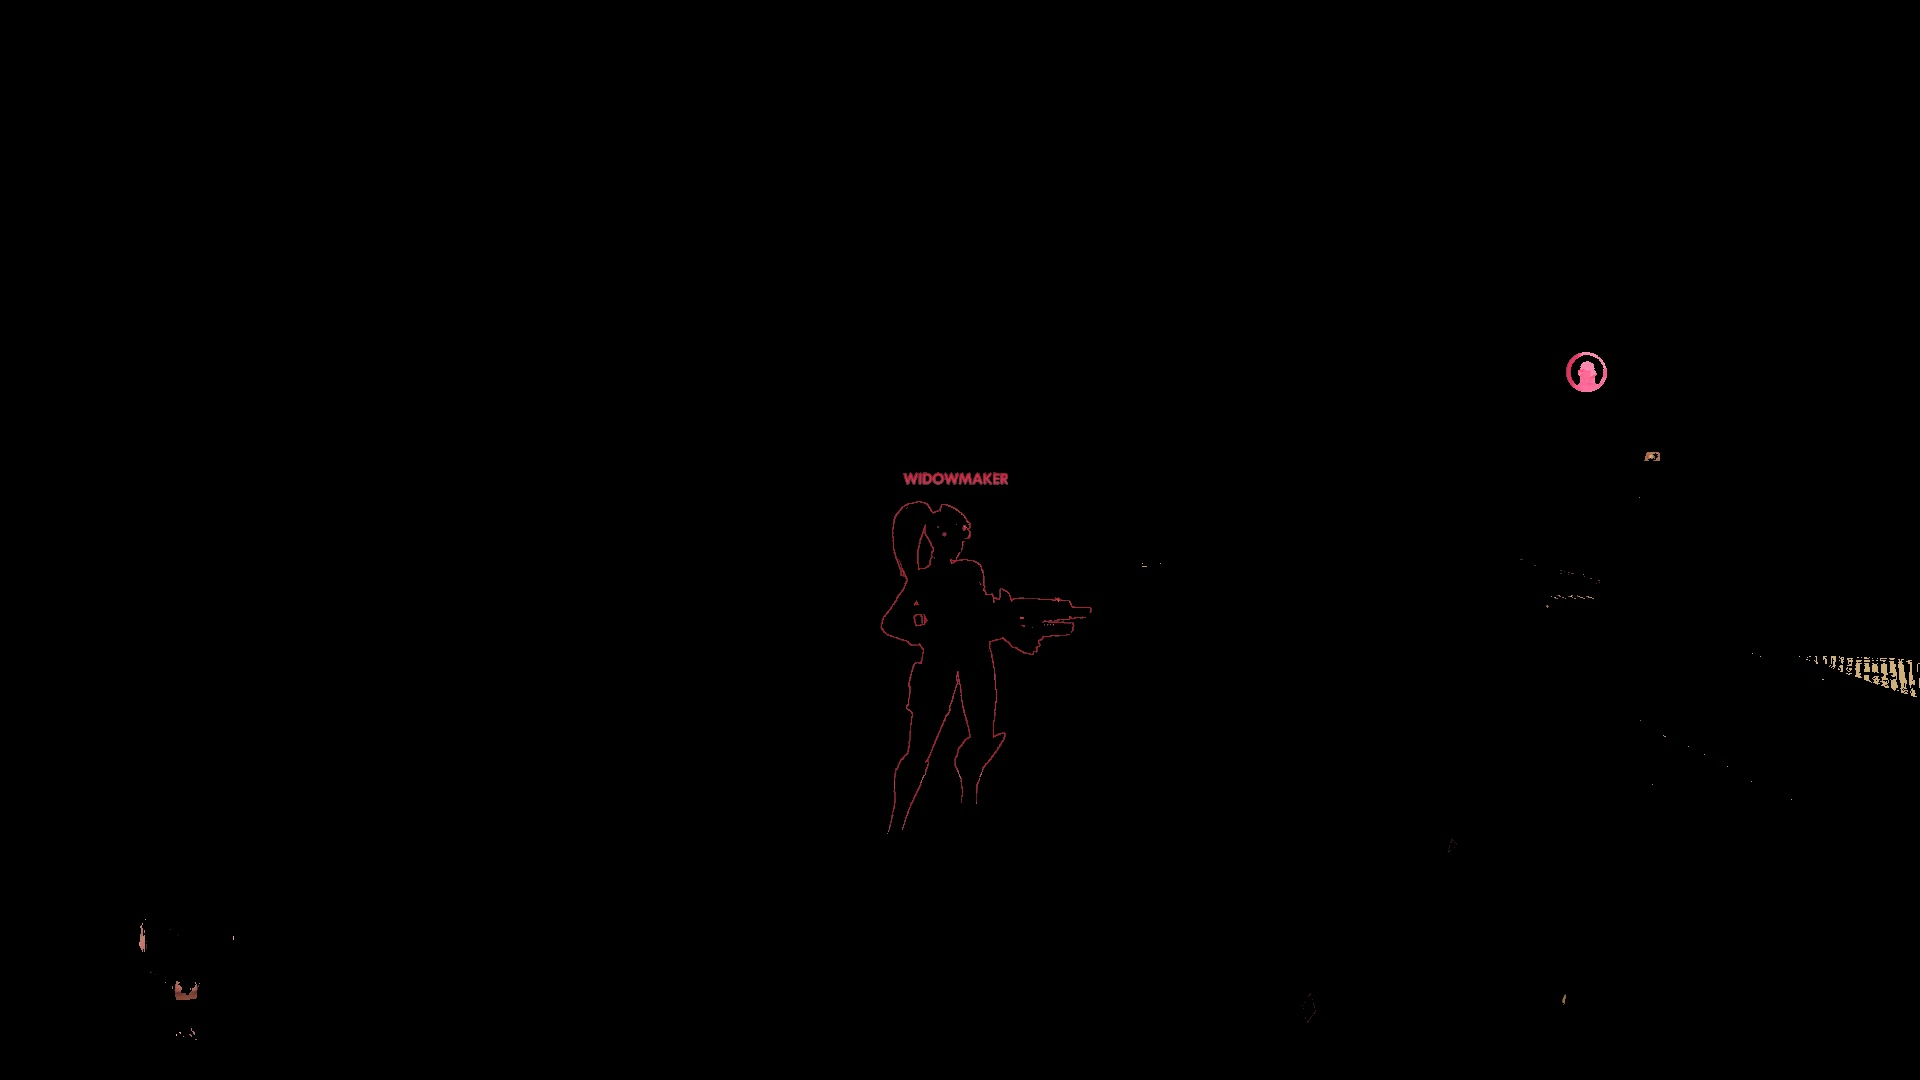widowmaker: (880, 501, 1013, 889)
